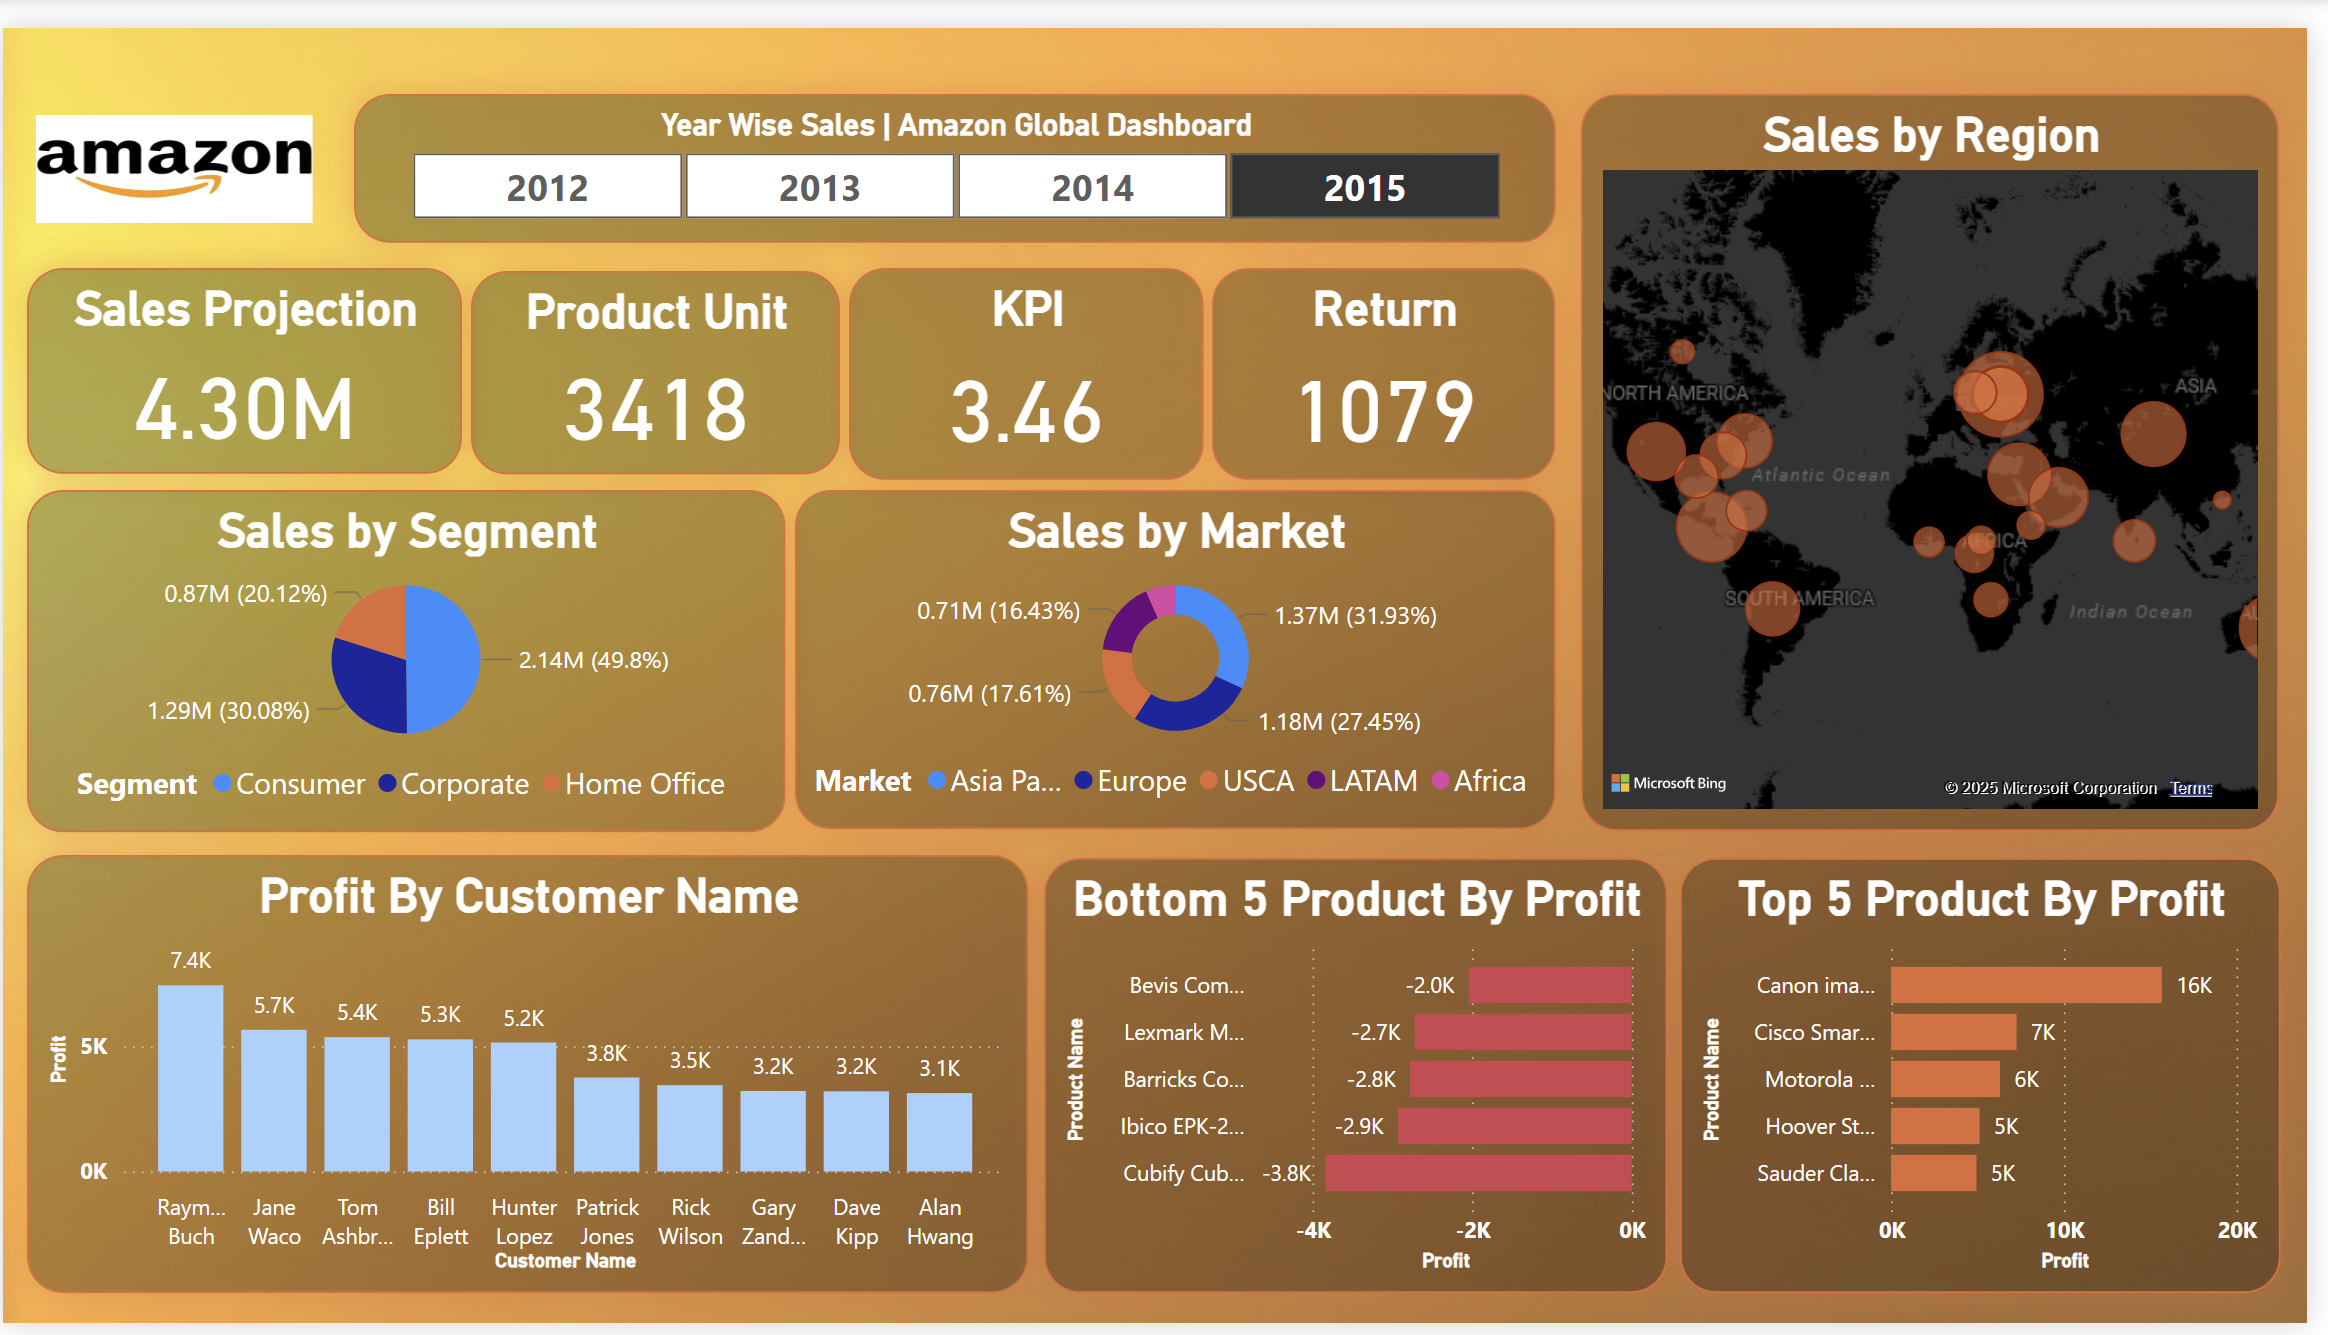

The page's visual inventory and layout, read from the dashboard file:
{"tool":"powerbi","page":{"name":"Page 1","canvas":[1280,720],"ordinal":0},"visuals":[{"type":"slicer","title":"Year Wise Sales | Amazon Global Dashboard","fields":{"Values":["Orders.Year"]},"box":[195.5,36.6,667.5,82.6],"z":0},{"type":"card","title":"Sales Projection","fields":{"Values":["Orders.Sales"]},"box":[12.7,134.1,241.6,114.4],"z":1000},{"type":"image","box":[12.7,42.9,163.7,69.9],"z":2000},{"type":"card","title":"Product Unit","fields":{"Values":["Orders.Product Name"]},"box":[260.7,135.7,205,112.8],"z":3000},{"type":"card","title":"KPI","fields":{"Values":["Orders.Quantity"]},"box":[470.5,133.5,197.1,117.6],"z":4000},{"type":"card","title":"Return","fields":{"Values":["Returns.ReturnedMap"]},"box":[672.3,133.5,190.7,117.6],"z":5000},{"type":"pieChart","title":"Sales by Segment","fields":{"Category":["Orders.Segment"],"Y":["Orders.Sales"]},"box":[12.7,255.9,421.2,190.7],"z":6000},{"type":"donutChart","title":"Sales by Market","fields":{"Y":["Orders.Sales"],"Category":["Orders.Market"]},"box":[440.3,257.5,422.8,189.1],"z":7000},{"type":"clusteredColumnChart","title":"Profit By Customer Name","fields":{"Category":["Orders.Customer Name"],"Y":["Orders.Profit"]},"box":[12.7,459.3,556.3,243.2],"z":8000},{"type":"clusteredBarChart","title":"Bottom 5 Product By Profit","fields":{"Category":["Orders.Product Name"],"Y":["Orders.Profit"]},"box":[577.7,460.9,346.5,241.6],"z":9000},{"type":"clusteredBarChart","title":"Top 5 Product By Profit","fields":{"Category":["Orders.Product Name"],"Y":["Orders.Profit"]},"box":[931.4,460.9,333.8,241.6],"z":10000},{"type":"map","title":"Sales by Region","fields":{"Category":["Orders.Region"],"Size":["Orders.Sales"]},"box":[877.4,36.6,387.8,410.1],"z":11000}]}

Visuals, with their boxes in screenshot pixels (x1, y1, x2, y2), scaled from the page's 1280x720 canvas onto the 2328x1335 screenshot:
"Year Wise Sales | Amazon Global Dashboard" slicer: {"left": 356, "top": 68, "right": 1570, "bottom": 221}
"Sales Projection" card: {"left": 23, "top": 249, "right": 463, "bottom": 461}
image: {"left": 23, "top": 80, "right": 321, "bottom": 209}
"Product Unit" card: {"left": 474, "top": 252, "right": 847, "bottom": 461}
"KPI" card: {"left": 856, "top": 248, "right": 1214, "bottom": 466}
"Return" card: {"left": 1223, "top": 248, "right": 1570, "bottom": 466}
"Sales by Segment" pieChart: {"left": 23, "top": 474, "right": 789, "bottom": 828}
"Sales by Market" donutChart: {"left": 801, "top": 477, "right": 1570, "bottom": 828}
"Profit By Customer Name" clusteredColumnChart: {"left": 23, "top": 852, "right": 1035, "bottom": 1303}
"Bottom 5 Product By Profit" clusteredBarChart: {"left": 1051, "top": 855, "right": 1681, "bottom": 1303}
"Top 5 Product By Profit" clusteredBarChart: {"left": 1694, "top": 855, "right": 2301, "bottom": 1303}
"Sales by Region" map: {"left": 1596, "top": 68, "right": 2301, "bottom": 828}
